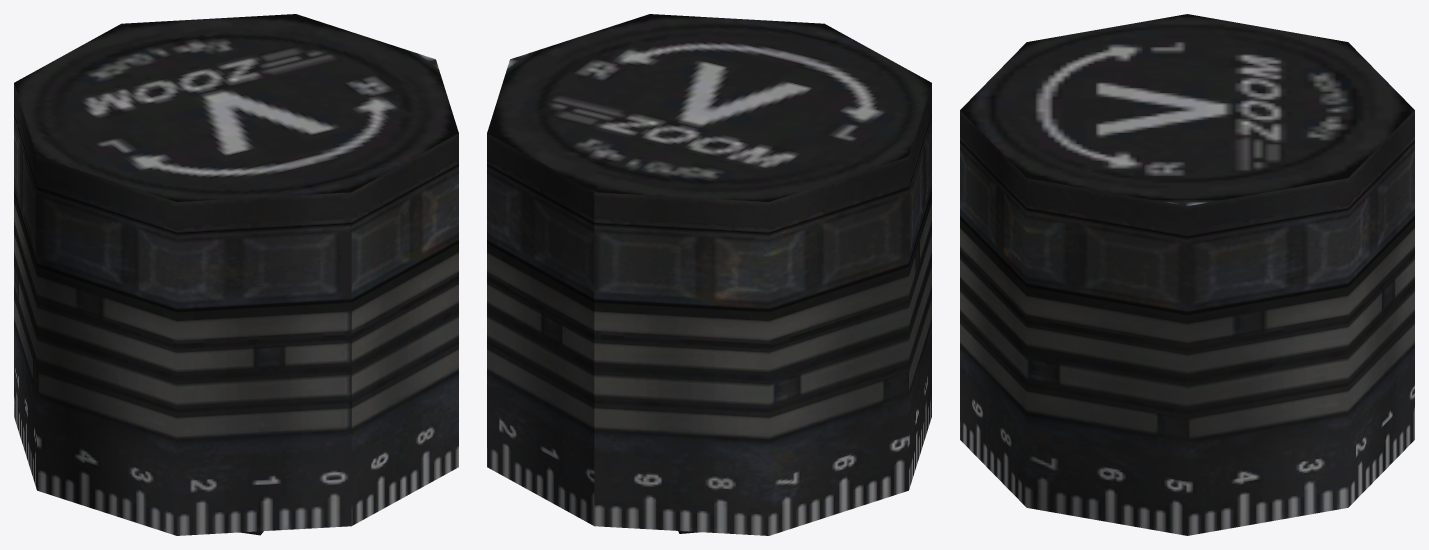
File: t6_attach_optic_vzoom_ballista_world_LOD0.obj
The picture shows the model from 3 angles, left to right: view 1: azimuth 30°, elevation 25°; view 2: azimuth 150°, elevation 25°; view 3: azimuth 270°, elevation 25°; orthographic projection.
Visible parts, largest first — view 1: mtl_t6_attach_optic_vzoom_ballista; view 2: mtl_t6_attach_optic_vzoom_ballista; view 3: mtl_t6_attach_optic_vzoom_ballista.
Boxes of the visible parts, box(x1,y1,x2,y2) form: mtl_t6_attach_optic_vzoom_ballista: box(14, 14, 458, 535); mtl_t6_attach_optic_vzoom_ballista: box(487, 14, 931, 535); mtl_t6_attach_optic_vzoom_ballista: box(960, 14, 1414, 535).
Size of the model in its own units: 3.39 by 3.31 by 3.39.
